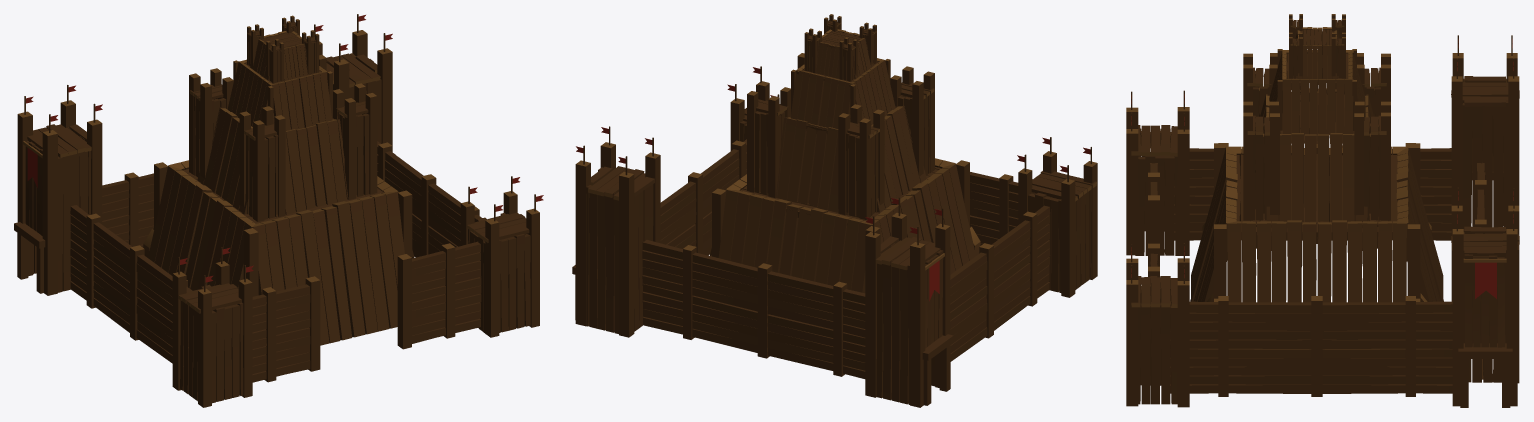
Rendered from Wonder_FirstAge_Level3.obj.
3 views of the same model, side by side, from view 1: azimuth 30°, elevation 25°; view 2: azimuth 150°, elevation 25°; view 3: azimuth 270°, elevation 25° (orthographic). The views are drawn at different scales.
Parts seen in each view (by area): view 1: Wonder_FirstAge_Level3_Cube.267; view 2: Wonder_FirstAge_Level3_Cube.267; view 3: Wonder_FirstAge_Level3_Cube.267.
Boxes of the visible parts, <box> form: Wonder_FirstAge_Level3_Cube.267: <box>14,14,543,407</box>; Wonder_FirstAge_Level3_Cube.267: <box>572,14,1097,407</box>; Wonder_FirstAge_Level3_Cube.267: <box>1126,14,1519,407</box>.
Size of the model in its own units: 2.2 by 1.6 by 1.95.
